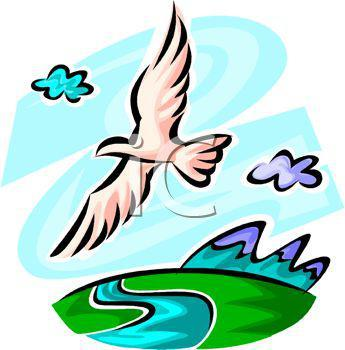bird: (51, 3, 231, 260)
